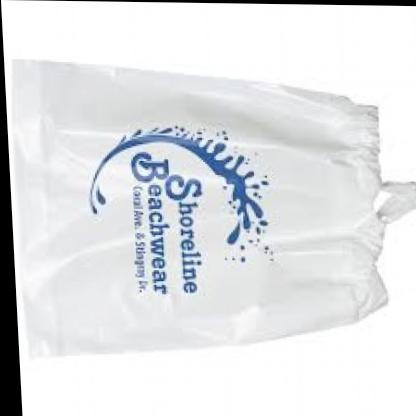trash: (10, 61, 385, 355)
